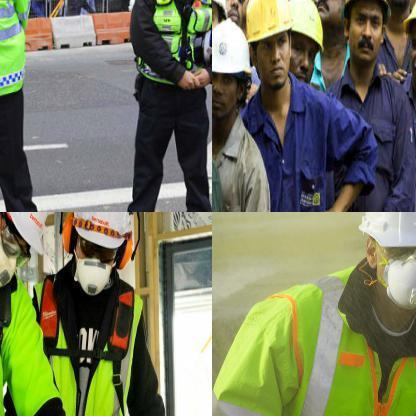vest: (212, 270, 415, 415), (33, 269, 144, 415), (248, 89, 347, 211), (146, 0, 211, 93), (0, 0, 40, 104)
